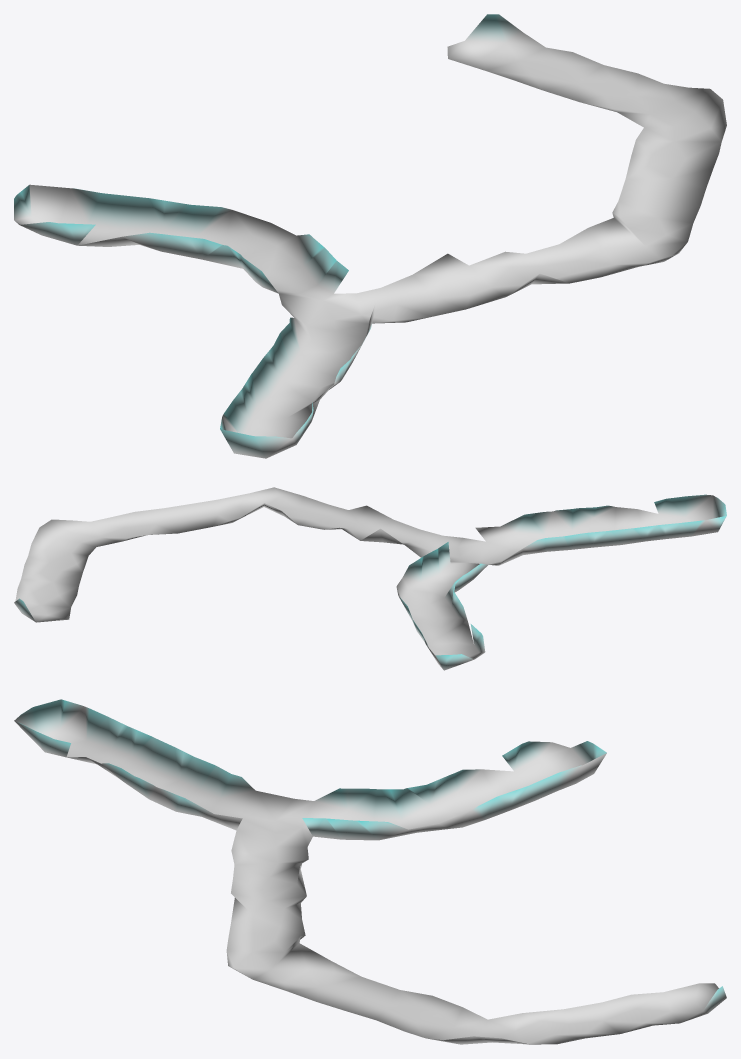
Rendered from navimesh.fbx.
3 renders of one model, top to bottom at view 1: azimuth 30°, elevation 25°; view 2: azimuth 150°, elevation 25°; view 3: azimuth 270°, elevation 25°, orthographic. The views are drawn at different scales.
Visible parts, largest first — view 1: split6; view 2: split6; view 3: split6.
Boxes of the visible parts, x1,y1,x2,y2 form: split6: [14, 14, 726, 458]; split6: [14, 487, 726, 670]; split6: [14, 699, 726, 1044].
Bounding box in the file's own units: 49.37 × 2.34 × 46.03.
